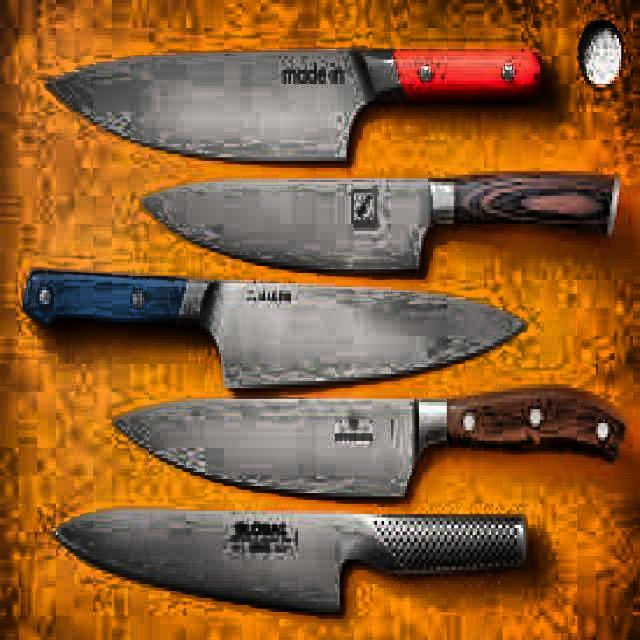knife: (19, 262, 556, 404), (110, 378, 638, 504), (40, 48, 559, 164), (44, 499, 538, 620), (143, 172, 626, 260)
